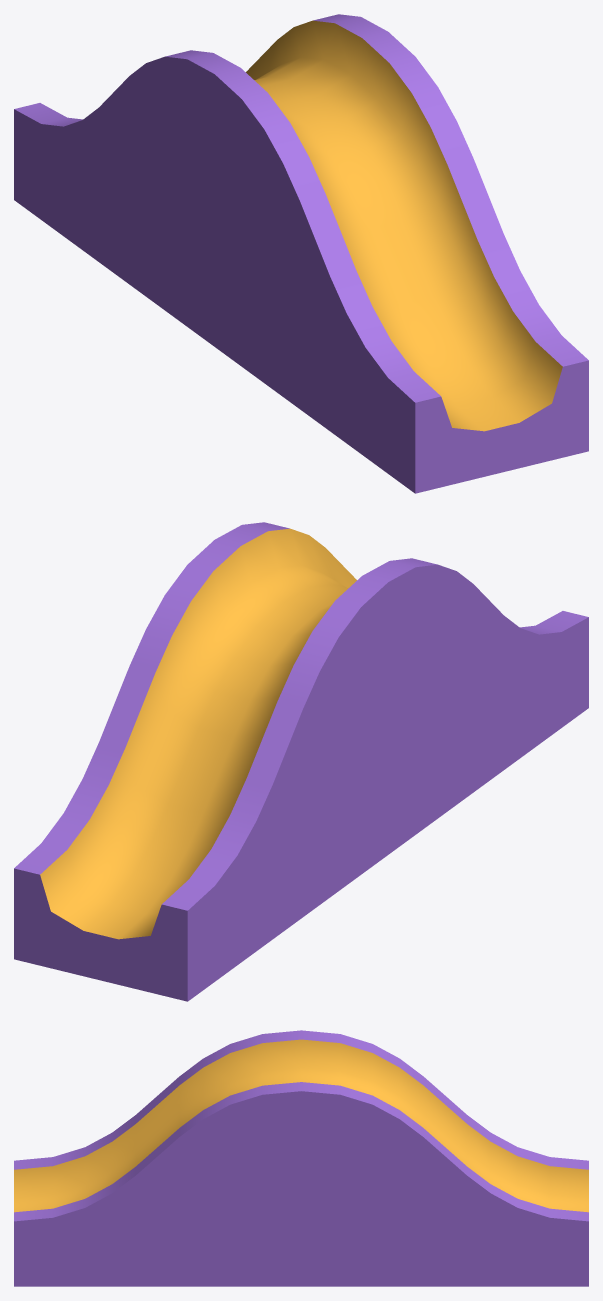
File: bump-solid-c.glb
The picture shows the model from 3 angles, top to bottom: view 1: azimuth 30°, elevation 25°; view 2: azimuth 150°, elevation 25°; view 3: azimuth 270°, elevation 25°; orthographic projection. The views are drawn at different scales.
Parts seen in each view (by area): view 1: bump-solid-c; view 2: bump-solid-c; view 3: bump-solid-c.
Boxes of the visible parts, x1=… form: bump-solid-c: x1=14, y1=14, x2=588, y2=493; bump-solid-c: x1=14, y1=522, x2=588, y2=1001; bump-solid-c: x1=14, y1=1030, x2=588, y2=1286.
Bounding box in the file's own units: 1 × 1.5 × 4.
1 material, 1 textured.
